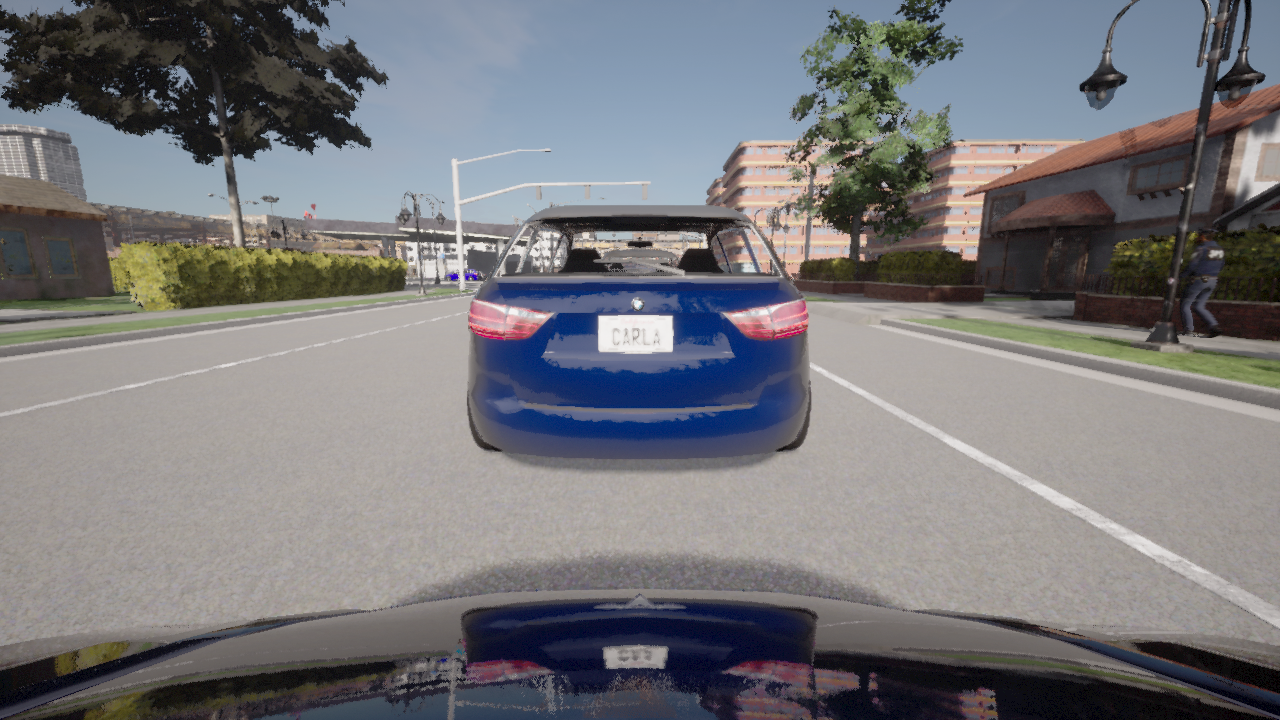cyclist: (0, 588, 1279, 719), (467, 205, 810, 459), (444, 269, 481, 280), (479, 271, 486, 280)
pedestrian: (1177, 228, 1225, 338)
